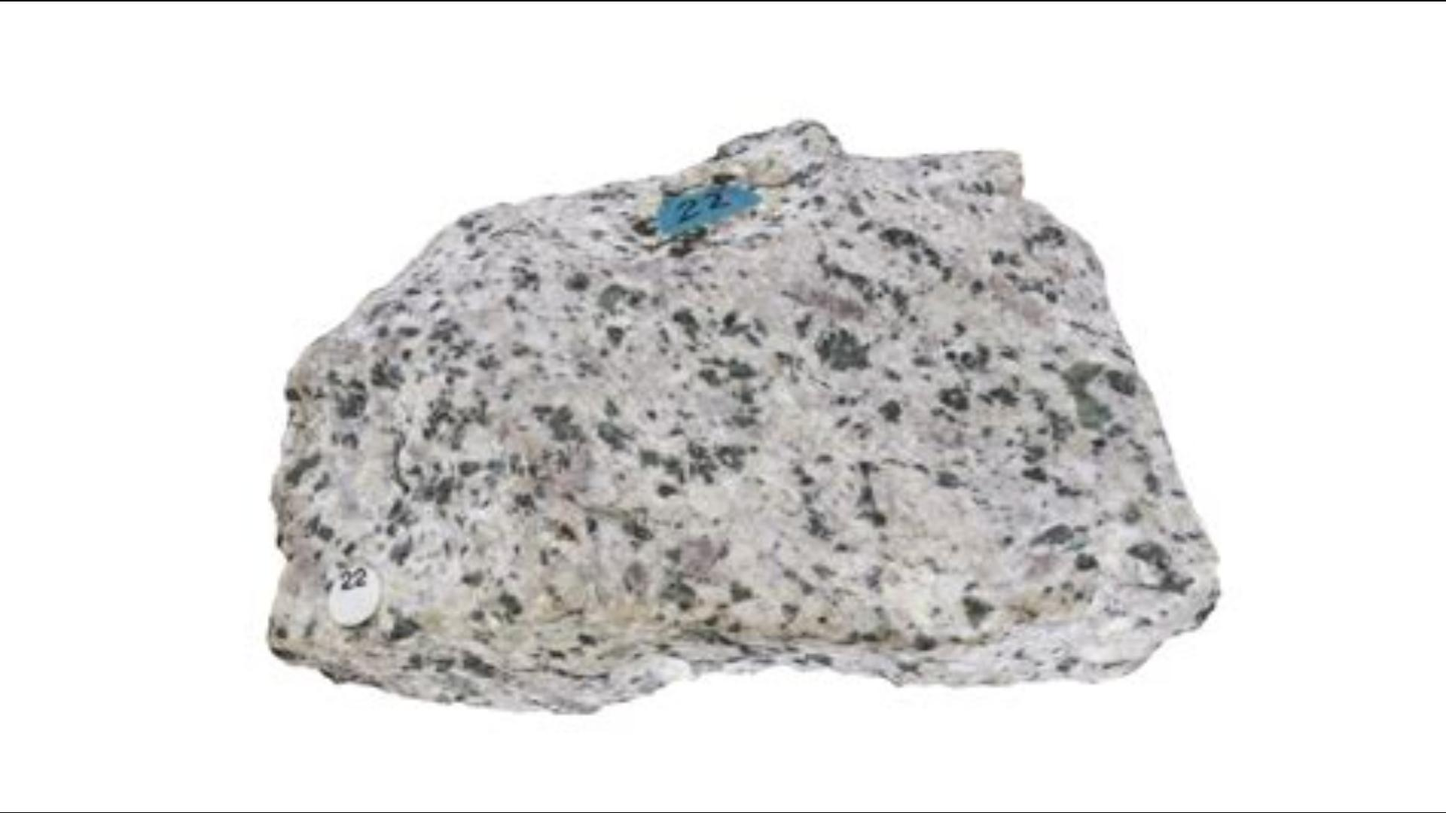rock: (272, 123, 1217, 705)
